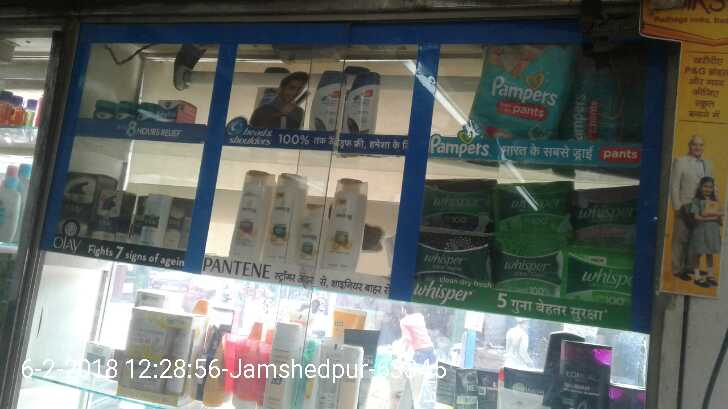vicks: (92, 93, 199, 125)
